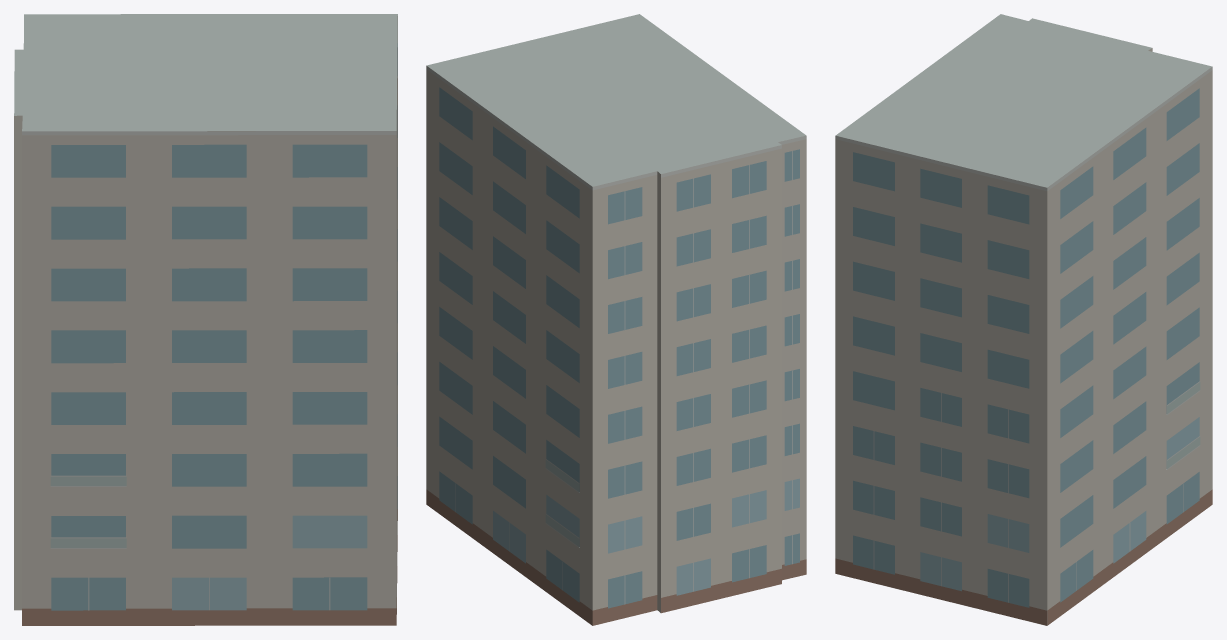
The model's file is survey-upis-32882262.glb.
The picture shows the model from 3 angles, left to right: view 1: azimuth 30°, elevation 25°; view 2: azimuth 150°, elevation 25°; view 3: azimuth 270°, elevation 25°; orthographic projection. The views are drawn at different scales.
Visible parts, largest first — view 1: survey-upis-32882262.tmp; view 2: survey-upis-32882262.tmp; view 3: survey-upis-32882262.tmp.
Part boxes in pixels (<box>): survey-upis-32882262.tmp: <box>14,14,397,625</box>; survey-upis-32882262.tmp: <box>426,14,806,625</box>; survey-upis-32882262.tmp: <box>835,14,1212,625</box>.
Size of the model in its own units: 25.36 by 29.8 by 23.25.
